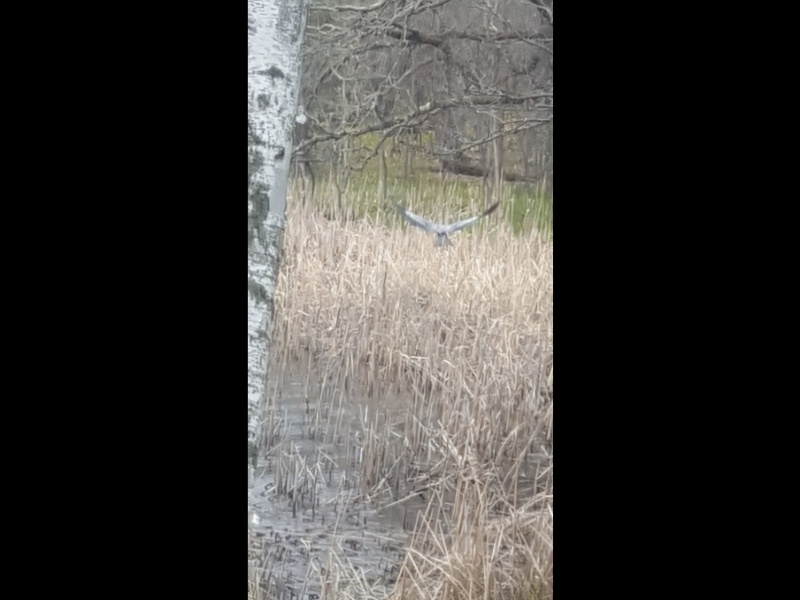heron: (398, 194, 502, 251)
